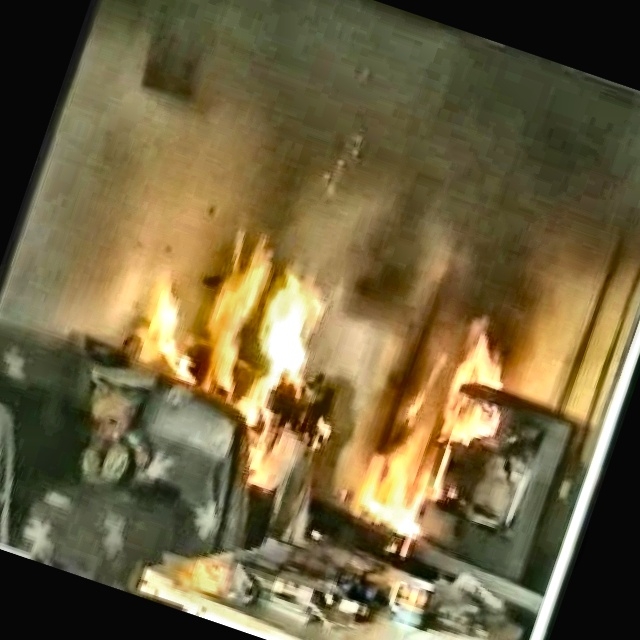fire: (100, 182, 546, 557)
